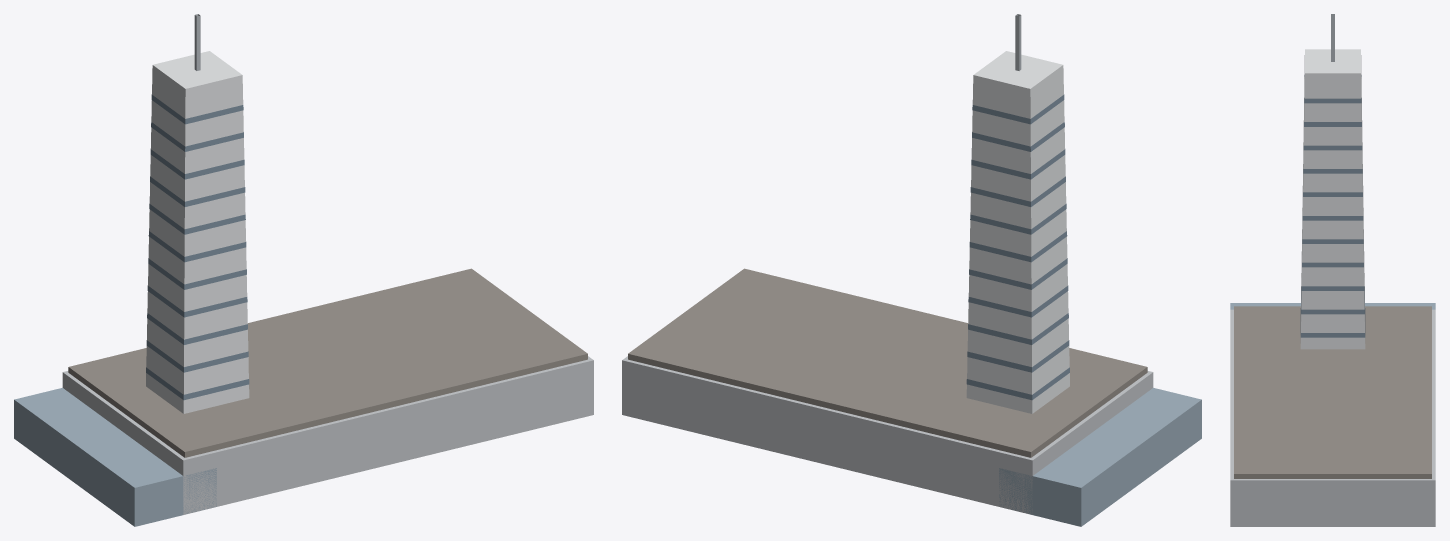
Rendered from bec.glb.
3 renders of one model, left to right at view 1: azimuth 30°, elevation 25°; view 2: azimuth 150°, elevation 25°; view 3: azimuth 270°, elevation 25°, orthographic. The views are drawn at different scales.
Size of the model in its own units: 123 by 112 by 56.
